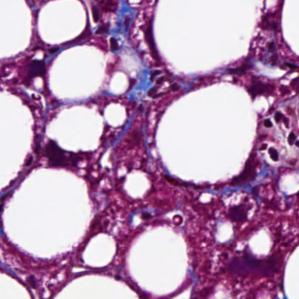inflammation: (257, 106, 299, 166)
